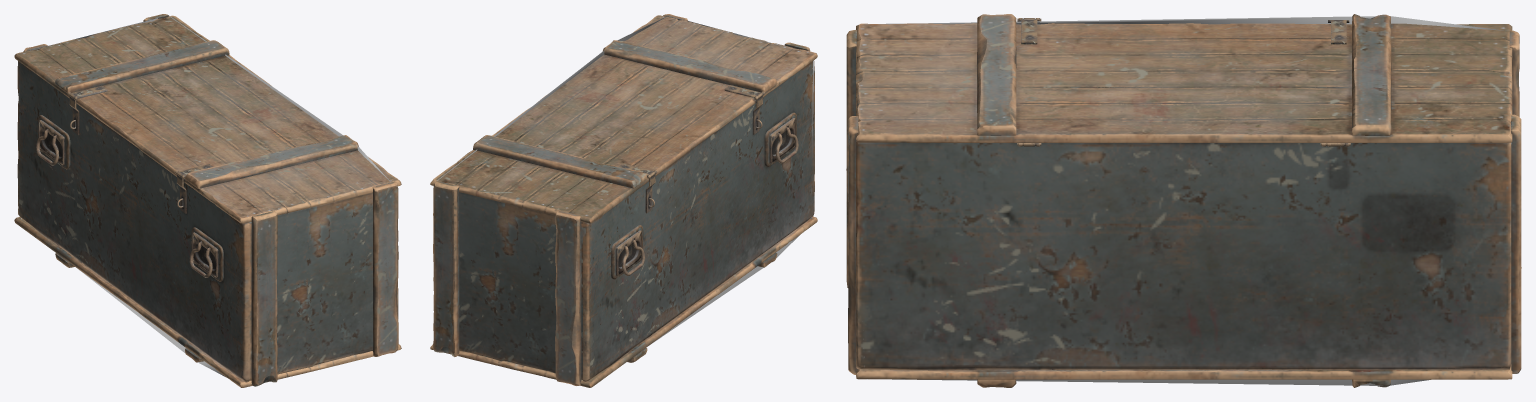
The model's file is SM_Chest_01.gltf.
3 views of the same model, side by side, from view 1: azimuth 30°, elevation 25°; view 2: azimuth 150°, elevation 25°; view 3: azimuth 270°, elevation 25° (orthographic). The views are drawn at different scales.
Visible parts, largest first — view 1: SM_Chest_01_LOD0, SM_Chest_01_ConvexHulls; view 2: SM_Chest_01_LOD0, SM_Chest_01_ConvexHulls; view 3: SM_Chest_01_LOD0, SM_Chest_01_ConvexHulls.
Boxes of the visible parts, x1=… form: SM_Chest_01_LOD0: x1=14, y1=14, x2=401, y2=387; SM_Chest_01_ConvexHulls: x1=21, y1=15, x2=390, y2=377; SM_Chest_01_LOD0: x1=430, y1=14, x2=817, y2=387; SM_Chest_01_ConvexHulls: x1=437, y1=16, x2=813, y2=344; SM_Chest_01_LOD0: x1=846, y1=14, x2=1521, y2=387; SM_Chest_01_ConvexHulls: x1=857, y1=16, x2=1511, y2=385.
Size of what is drawn, in the model's own units: 0.6137 by 0.6189 by 1.44.
